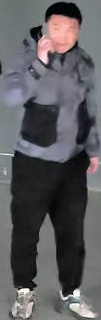phone: (0, 17, 58, 107)
